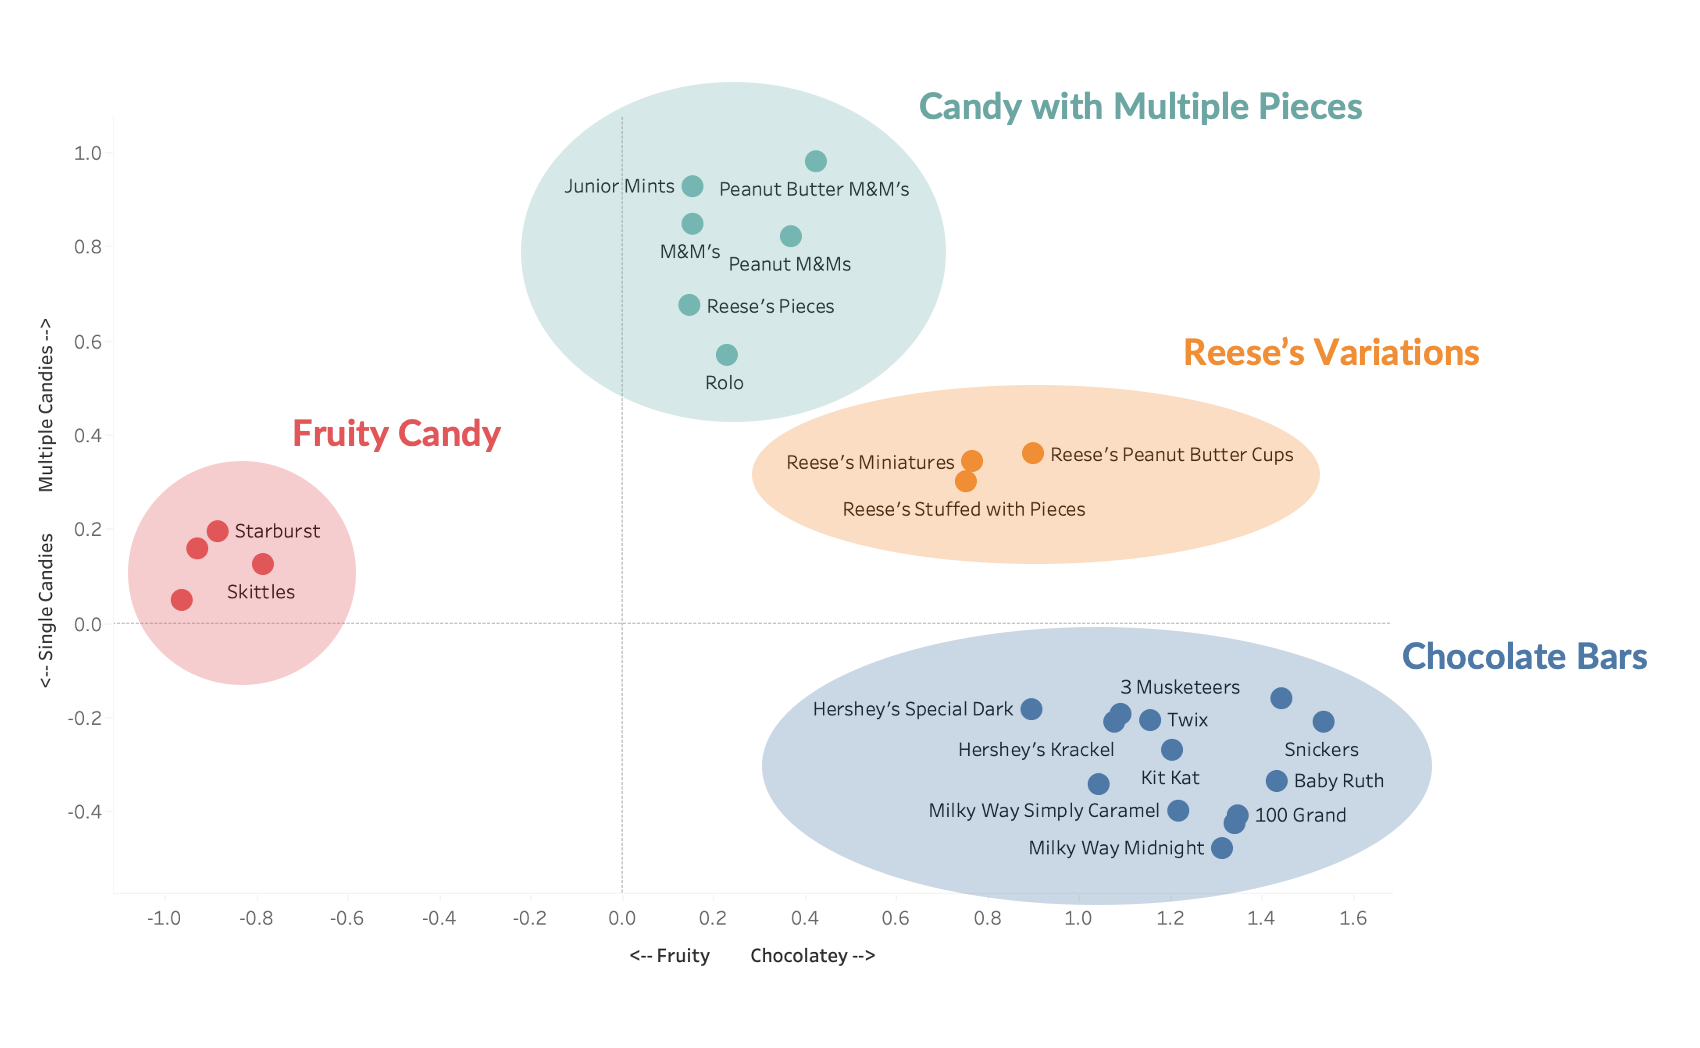

What the dashboard file says about the page in this screenshot:
{"tool":"tableau","page":{"name":"Candy Visualization","canvas":[800,600],"ordinal":0},"visuals":[{"type":"worksheet","title":"Candy Clusters","mark":"Automatic","rows":["y_jitter"],"cols":["x_jitter"],"box":[8,8,784,584]},{"type":"filter","title":"Candy Clusters","param":"[federated.130yd1d0fg51br1dmjxe70x77j2c].[sum:winpercent:qk]","box":[646,25,129,69]}]}

Visuals, with their boxes on the page's 800x600 design canvas (x1, y1, x2, y2). These are canvas units, not pixel positions in the 1700x1048 screenshot, which may show the page scaled, cropped or inside an application window:
"Candy Clusters" worksheet: 8, 8, 792, 592
"Candy Clusters" filter: 646, 25, 775, 94
